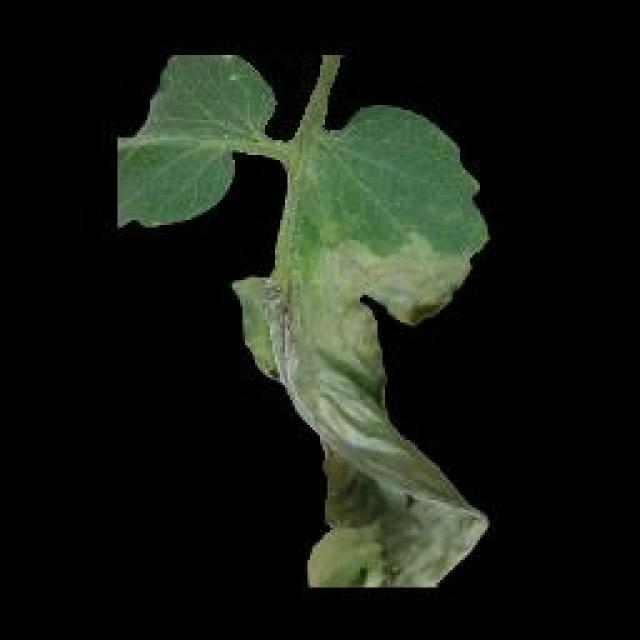Tomato late blight leaf: (235, 103, 492, 587)
